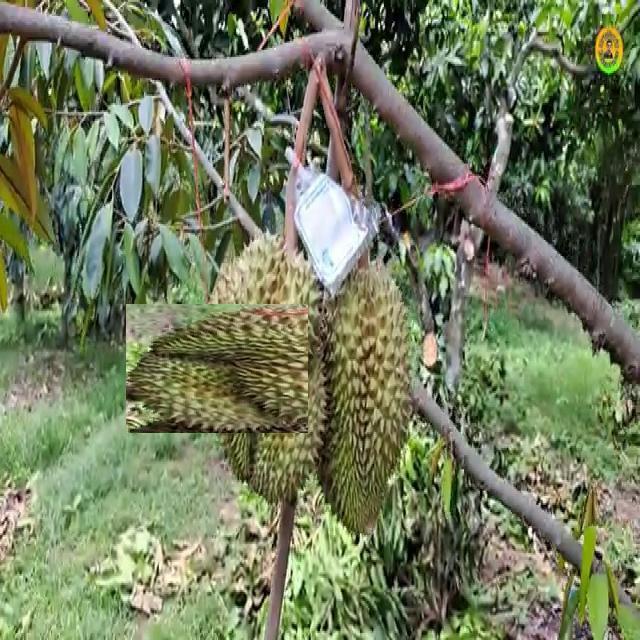durian: (163, 266, 367, 470), (308, 253, 418, 542)
